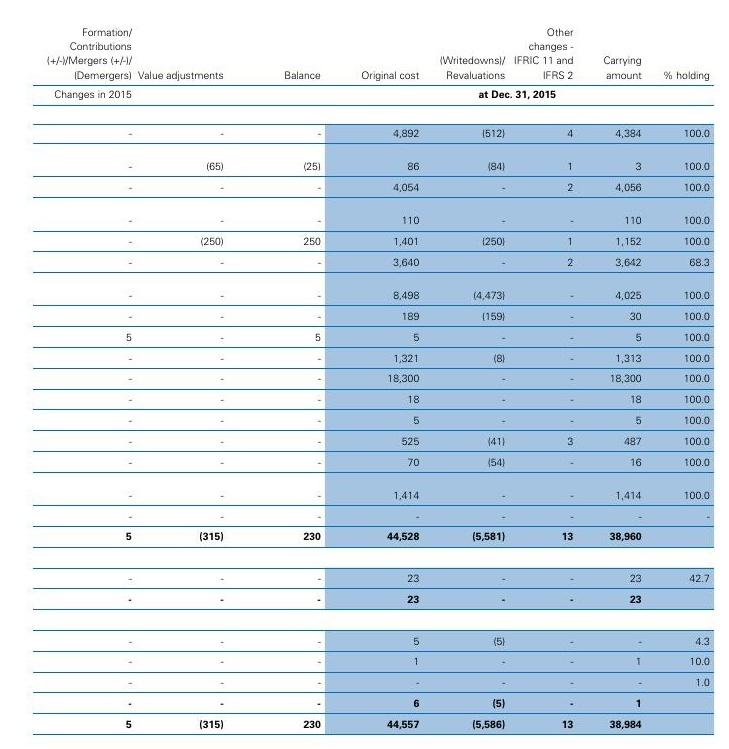table: (0, 0, 729, 749)
